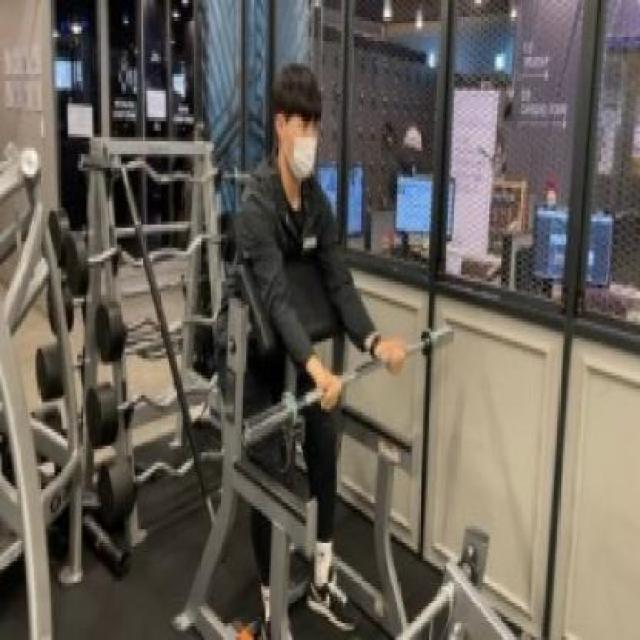arm curl machine: (172, 258, 410, 640)
